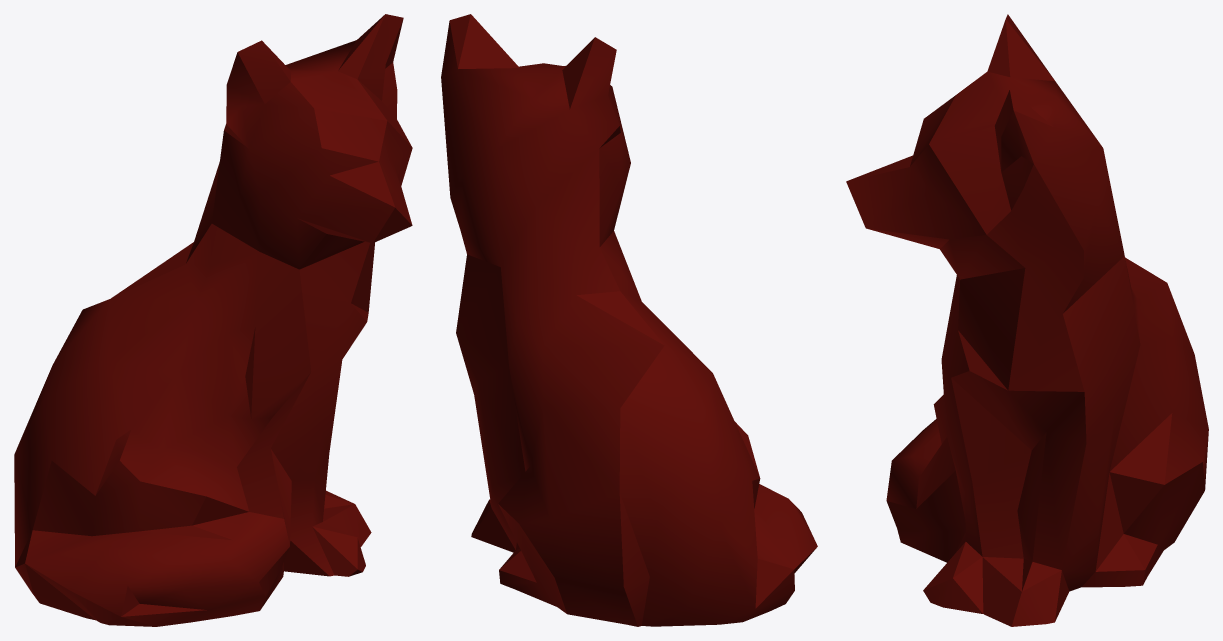
File: Idole_Renard___PRE_ALPHA___.fbx
The picture shows the model from 3 angles, left to right: view 1: azimuth 30°, elevation 25°; view 2: azimuth 150°, elevation 25°; view 3: azimuth 270°, elevation 25°; orthographic projection. The views are drawn at different scales.
Visible parts, largest first — view 1: Low_Poly_Fox; view 2: Low_Poly_Fox; view 3: Low_Poly_Fox.
Part boxes in pixels (x1,y1,x2,y2): Low_Poly_Fox: [14, 14, 412, 626]; Low_Poly_Fox: [441, 14, 817, 626]; Low_Poly_Fox: [846, 14, 1208, 626].
Bounding box in the file's own units: 7835 × 10662 × 6373.
